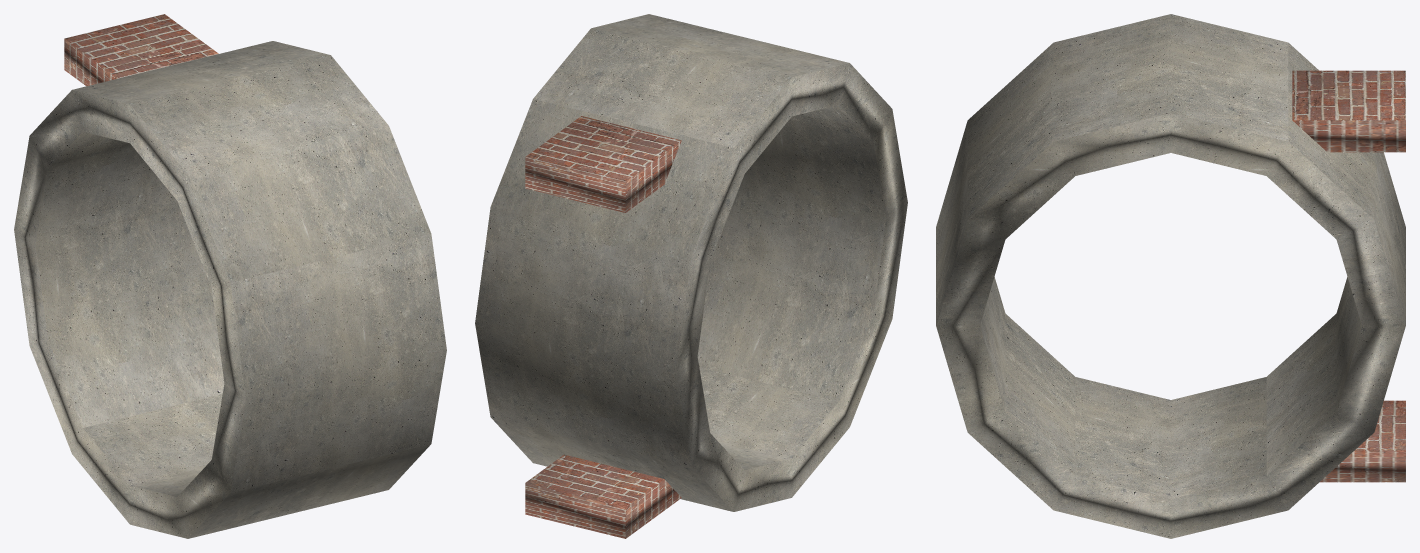
The picture shows the model from 3 angles, left to right: view 1: azimuth 30°, elevation 25°; view 2: azimuth 150°, elevation 25°; view 3: azimuth 270°, elevation 25°; orthographic projection.
Visible parts, largest first — view 1: adventureplaygound01a; view 2: adventureplaygound01a; view 3: adventureplaygound01a.
Part boxes in pixels (bbox=[...]): adventureplaygound01a: bbox=[14, 14, 446, 538]; adventureplaygound01a: bbox=[475, 14, 907, 538]; adventureplaygound01a: bbox=[936, 14, 1405, 538].
Size of the model in its own units: 78.74 by 157 by 157.
